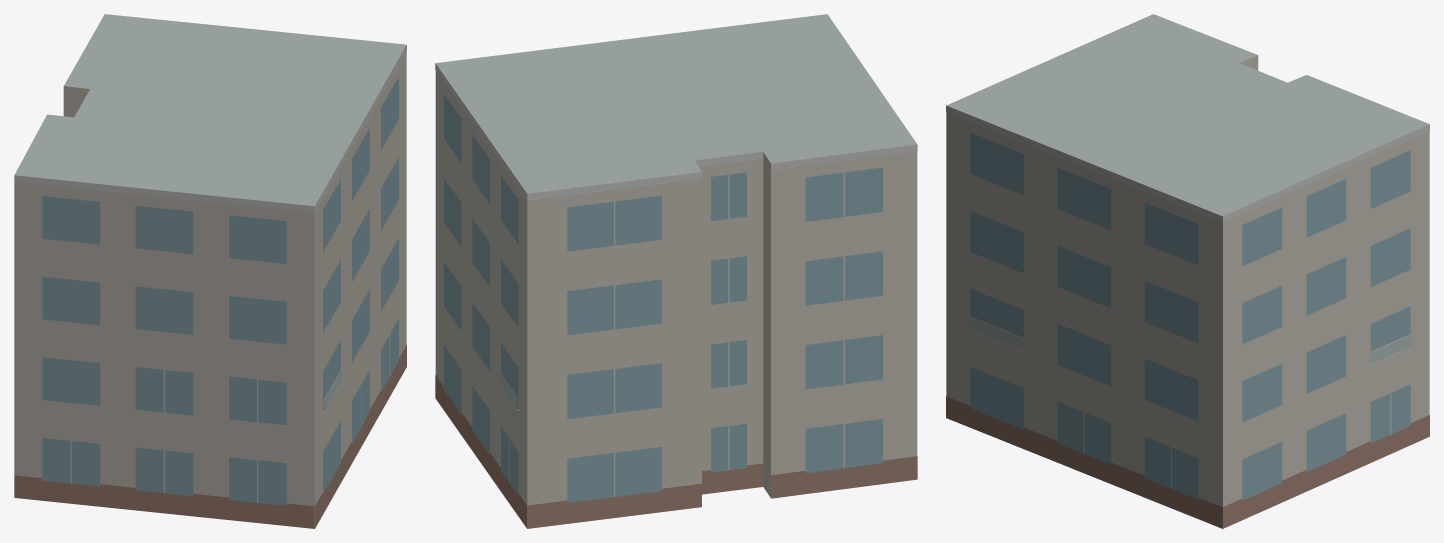
The model's file is survey-upis-32892497.glb.
3 views of the same model, side by side, from view 1: azimuth 30°, elevation 25°; view 2: azimuth 150°, elevation 25°; view 3: azimuth 270°, elevation 25° (orthographic). The views are drawn at different scales.
Visible parts, largest first — view 1: survey-upis-32892497.tmp; view 2: survey-upis-32892497.tmp; view 3: survey-upis-32892497.tmp.
Part boxes in pixels (x1,y1,x2,y2): survey-upis-32892497.tmp: (14,14,406,528); survey-upis-32892497.tmp: (435,14,917,528); survey-upis-32892497.tmp: (946,14,1429,528).
Bounding box in the file's own units: 16.12 × 11.6 × 16.28.
